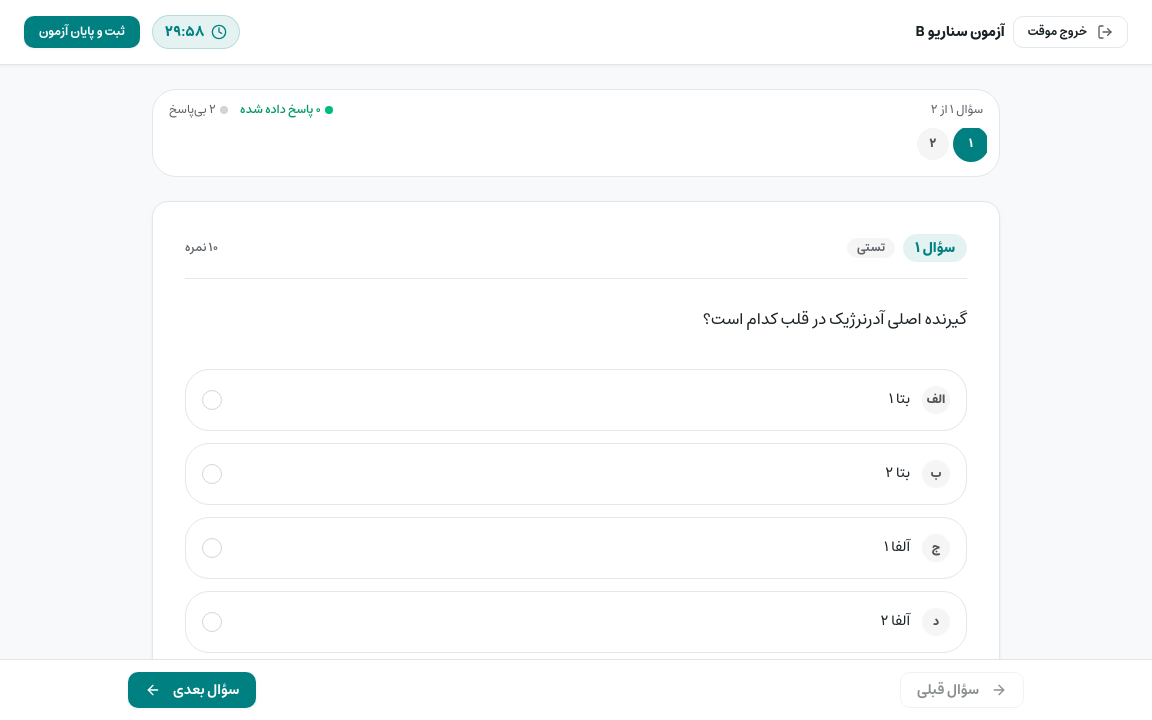
Test: Student Teacher Platform Exam Flow — Unit & Integration Tests › 11. Autosave & Submit Diagnostic Scenarios (A through J) › Scenario B: 400 Bad Request adds to failedQuestionsRef and blocks submit
The width and height of the screenshot is (1152, 720).
Click the text "بتا ۱": (899, 400) [889,388,910,411]
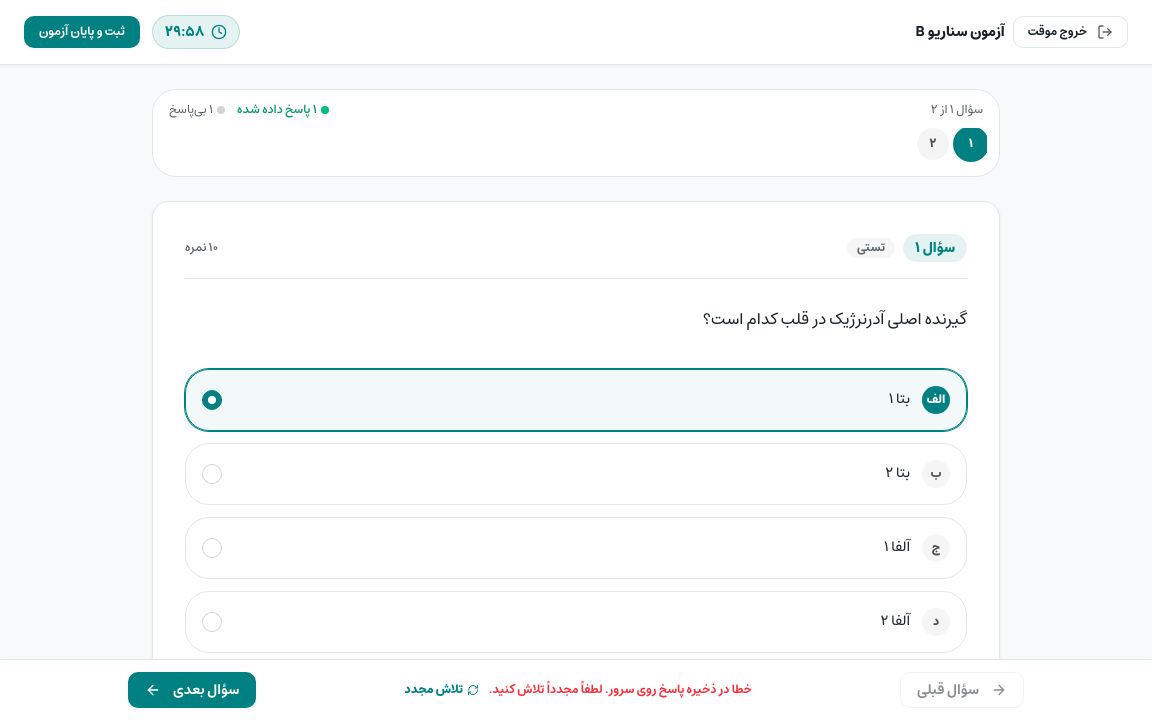
Result: the text "خطا در ذخیره پاسخ روی سرور. لطفاً مجدداً تلاش کنید." is shown at [489,682,752,698]
Click the button "ثبت و پایان آزمون": (82, 32) [24,16,140,48]
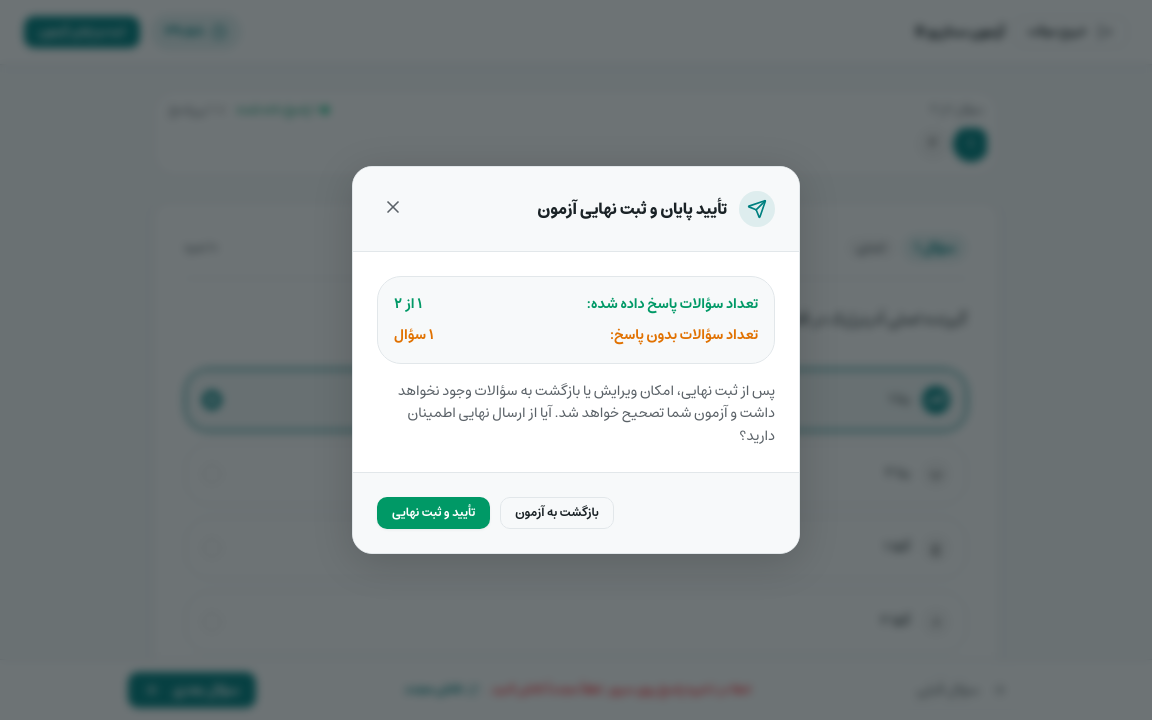
Click the button "تأیید و ثبت نهایی": (434, 513) [377,497,490,529]
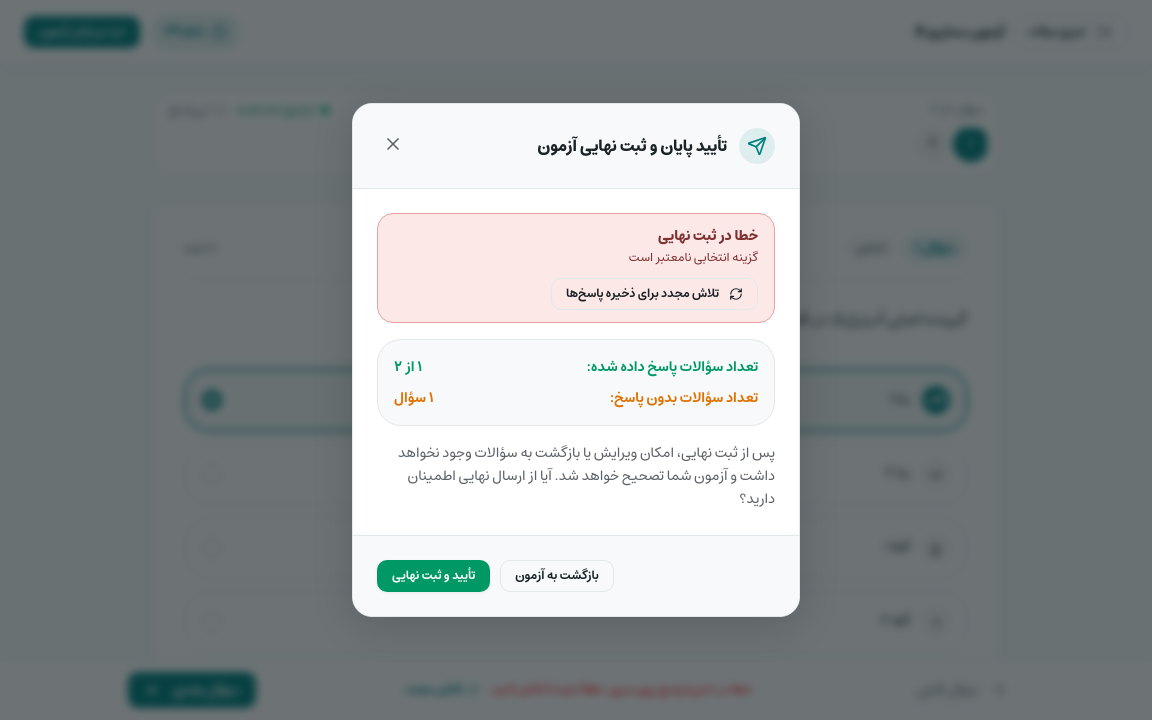
Result: the text "گزینه انتخابی نامعتبر است" is shown at [629,247,758,268]
